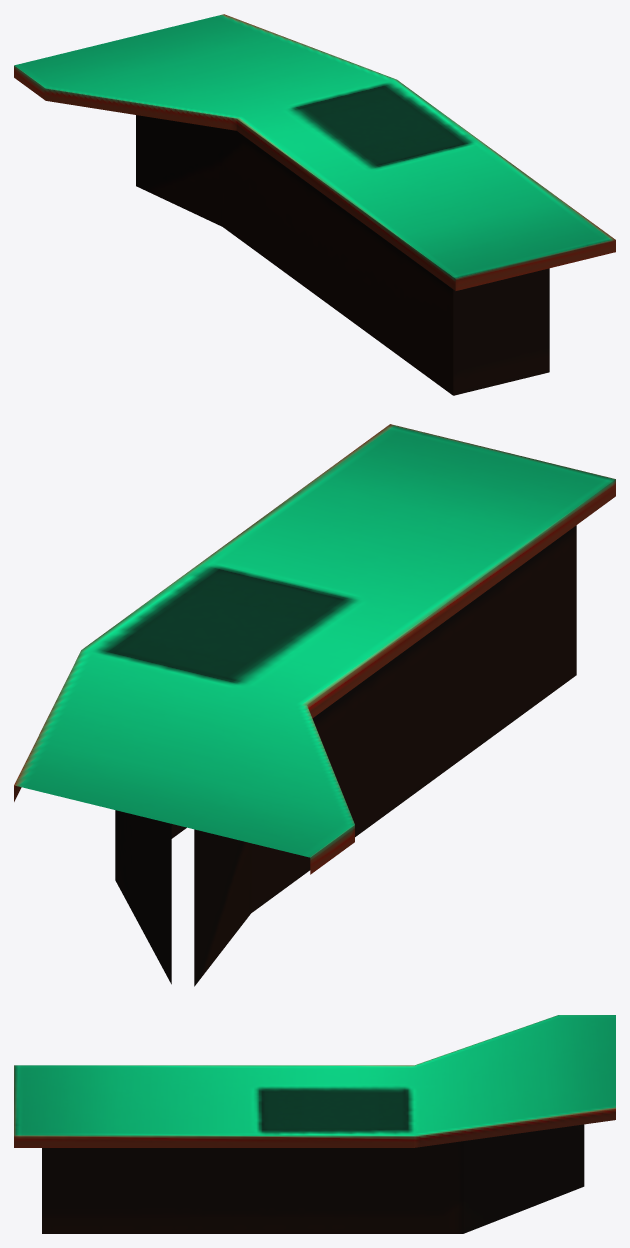
Rendered from Tx_props_left_small_lecture_table_medical.fbx.
The picture shows the model from 3 angles, top to bottom: view 1: azimuth 30°, elevation 25°; view 2: azimuth 150°, elevation 25°; view 3: azimuth 270°, elevation 25°; orthographic projection. The views are drawn at different scales.
Visible parts, largest first — view 1: polySurface350; view 2: polySurface350; view 3: polySurface350.
Part boxes in pixels (bbox=[...]): polySurface350: bbox=[14, 14, 615, 395]; polySurface350: bbox=[14, 424, 615, 986]; polySurface350: bbox=[14, 1015, 615, 1233].
Bounding box in the file's own units: 9.05 × 4.16 × 18.93.
